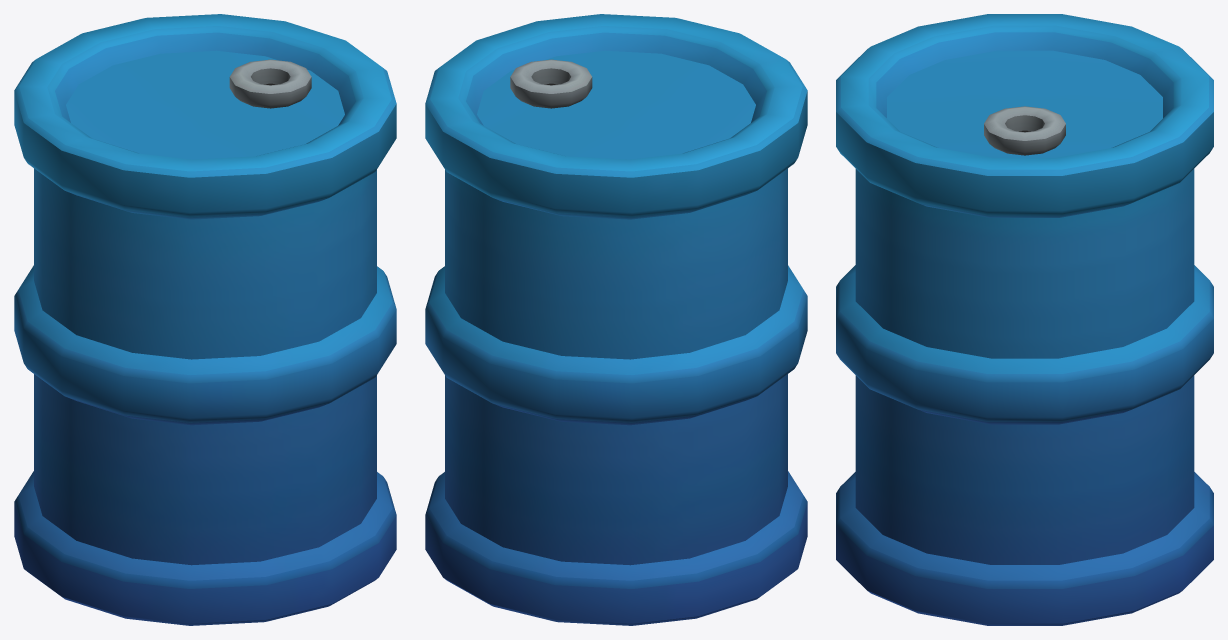
Rendered from fuel_c_barrel.glb.
3 renders of one model, left to right at view 1: azimuth 30°, elevation 25°; view 2: azimuth 150°, elevation 25°; view 3: azimuth 270°, elevation 25°, orthographic.
Parts seen in each view (by area): view 1: Fuel_C_Barrel; view 2: Fuel_C_Barrel; view 3: Fuel_C_Barrel.
Part boxes in pixels (bbox=[...]): Fuel_C_Barrel: bbox=[14, 14, 396, 625]; Fuel_C_Barrel: bbox=[425, 14, 807, 625]; Fuel_C_Barrel: bbox=[836, 14, 1213, 625].
Bounding box in the file's own units: 0.7501 × 1.01 × 0.7501.
Materials: 1 (1 with a texture image).
